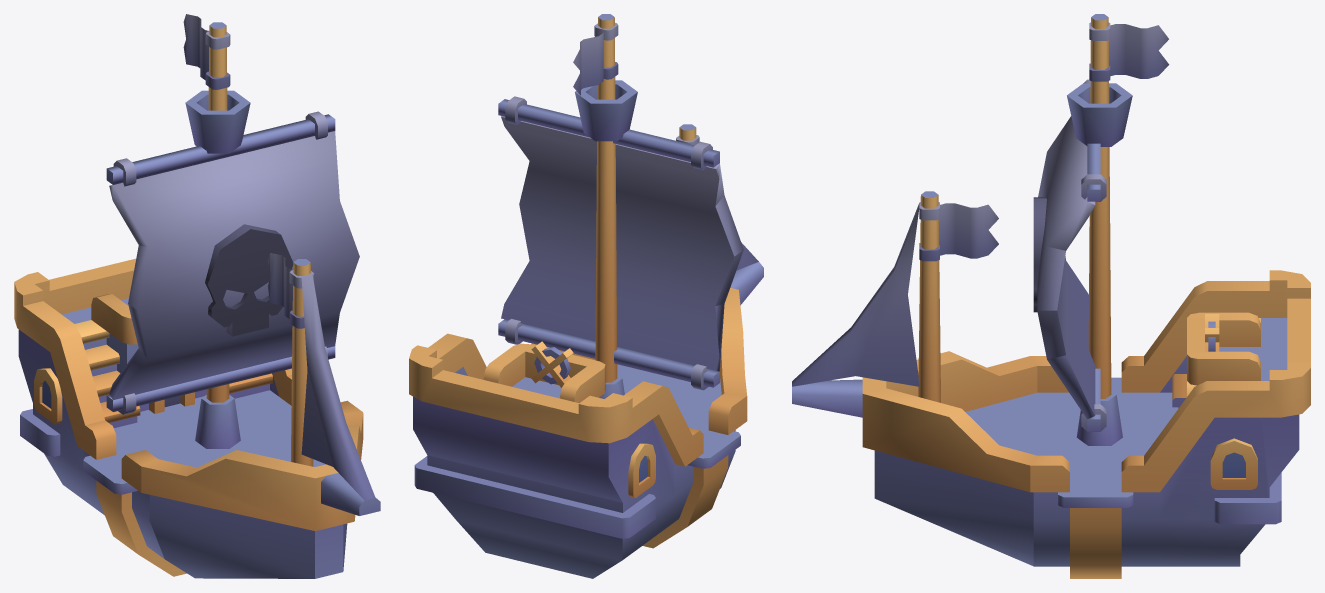
File: ship-pirate-small.fbx
3 views of the same model, side by side, from view 1: azimuth 30°, elevation 25°; view 2: azimuth 150°, elevation 25°; view 3: azimuth 270°, elevation 25° (orthographic). The views are drawn at different scales.
Parts seen in each view (by area): view 1: ship-pirate-small, sail-a, flag-b, flag-a; view 2: ship-pirate-small, sail-a, flag-b; view 3: ship-pirate-small, sail-a, flag-a, flag-b.
Boxes of the visible parts, <box> form: ship-pirate-small: <box>14,22,380,578</box>; sail-a: <box>106,111,359,414</box>; flag-b: <box>183,14,230,89</box>; flag-a: <box>267,253,314,328</box>; ship-pirate-small: <box>409,14,763,578</box>; sail-a: <box>498,96,743,390</box>; flag-b: <box>573,23,618,95</box>; ship-pirate-small: <box>792,14,1310,578</box>; sail-a: <box>1033,79,1106,431</box>; flag-a: <box>919,202,998,261</box>; flag-b: <box>1089,22,1169,81</box>.
Size of the model in its own units: 480 by 996 by 880.
